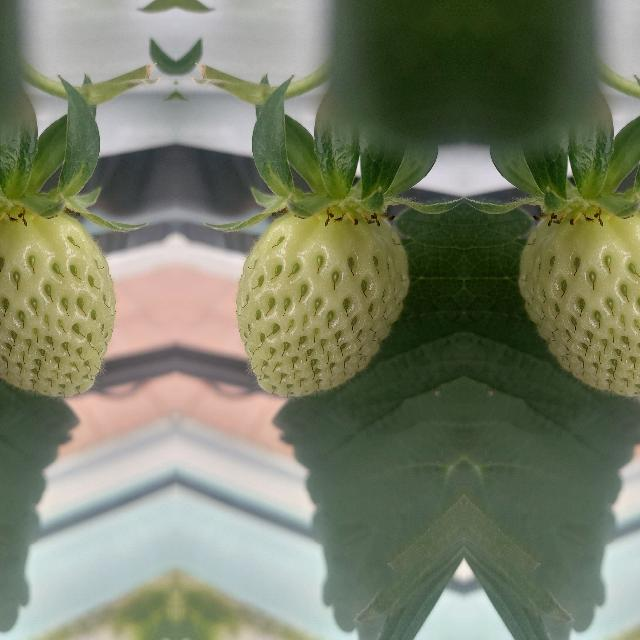Health_25: (235, 212, 408, 396), (518, 212, 640, 395), (0, 212, 115, 395)
